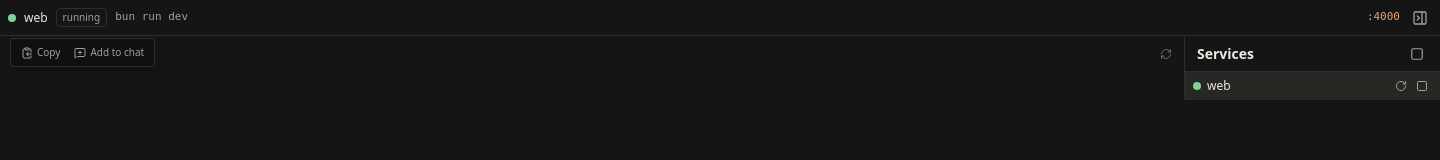
it: LogViewer — selection toolbar › Copy copies exact selected text and shows feedback
Expected: the text "exact log content" is shown, [26, 46, 149, 60]
Click the button with aria-label "copy selected log text". click: (41, 52)
box: [15, 41, 66, 64]
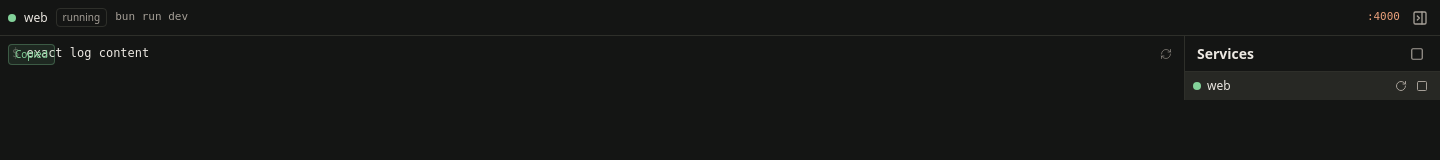
Result: the text "Copied" is shown at [8, 44, 55, 65]
